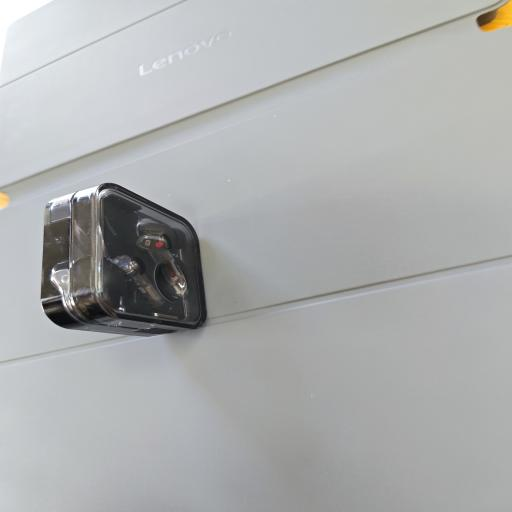Headphones: (33, 174, 220, 342)
